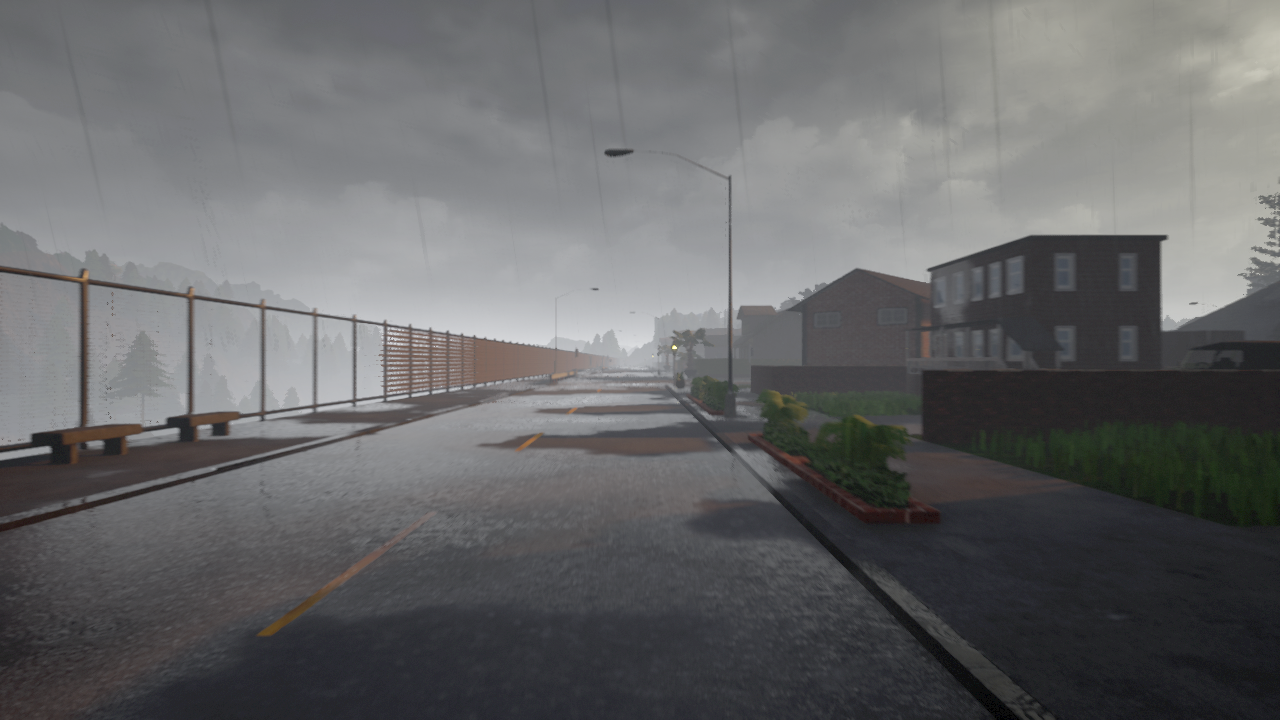yellow: (671, 341, 678, 355)
